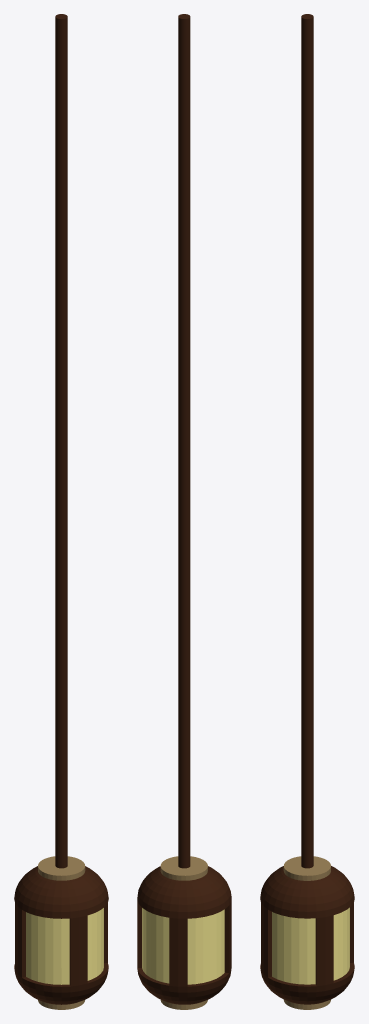
Rendered from Chandelier.fbx.
The picture shows the model from 3 angles, left to right: view 1: azimuth 90°, elevation 25°; view 2: azimuth 150°, elevation 25°; view 3: azimuth 270°, elevation 25°; orthographic projection.
Parts seen in each view (by area): view 1: Sphere.007, Cylinder.032; view 2: Sphere.007, Cylinder.032; view 3: Sphere.007, Cylinder.032.
Boxes of the visible parts, left/top/right/bottom form: Sphere.007: left=14, top=856, right=108, bottom=1009; Cylinder.032: left=55, top=14, right=67, bottom=868; Sphere.007: left=137, top=856, right=231, bottom=1009; Cylinder.032: left=178, top=14, right=190, bottom=868; Sphere.007: left=260, top=856, right=354, bottom=1009; Cylinder.032: left=301, top=14, right=313, bottom=868.
Bounding box in the file's own units: 303 × 3468 × 303.
